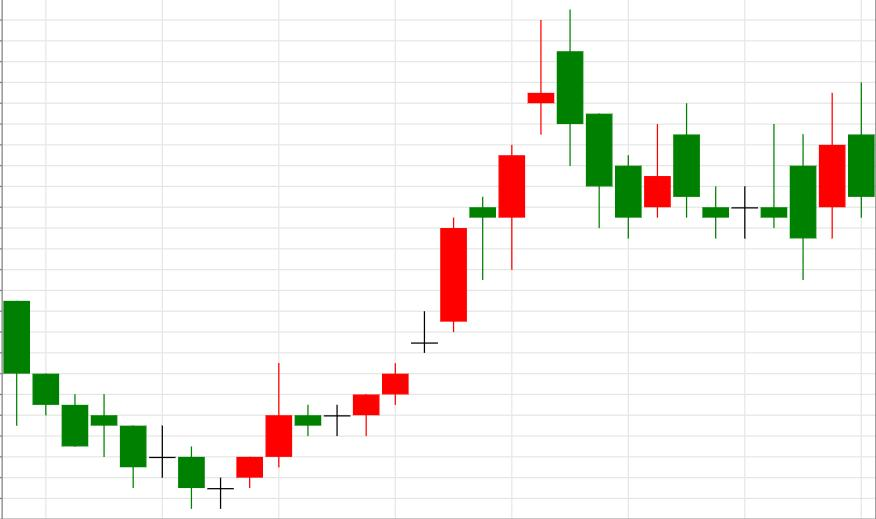bearish_engulfing_fall: (325, 8, 583, 437)
